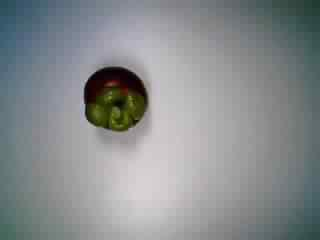mangosteen: (74, 65, 152, 138)
